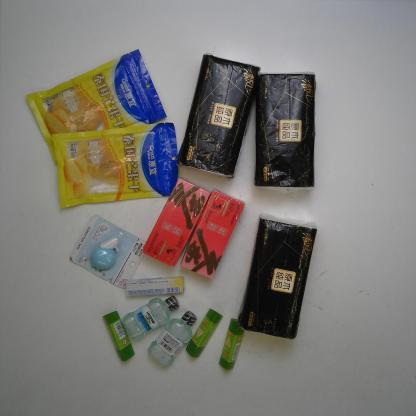Candy: (124, 274, 186, 300)
Dried Fruit: (25, 47, 167, 168), (51, 121, 179, 210)
Instant Drink: (140, 176, 213, 268), (179, 187, 246, 282)
Personal Hygiene: (147, 309, 198, 368), (121, 294, 180, 342)
Stationery: (68, 213, 146, 290), (185, 306, 224, 359), (101, 309, 135, 363), (218, 317, 246, 371)
Tissue: (177, 51, 262, 180), (236, 211, 320, 340), (252, 70, 317, 194)
